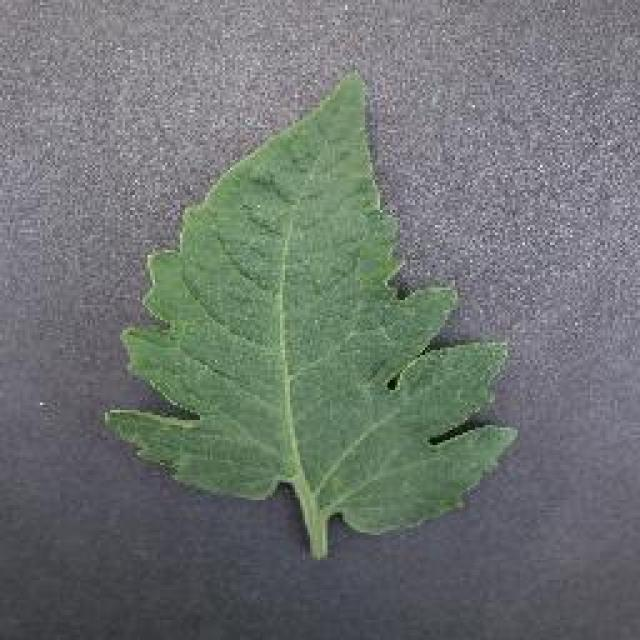Tomato healthy leaf: (120, 71, 518, 564)
